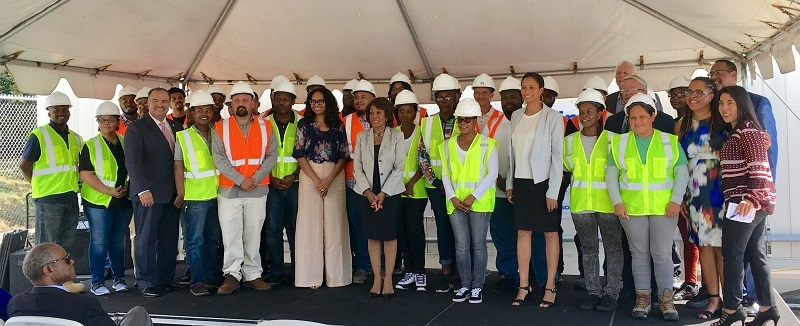none: (22, 242, 77, 288), (717, 84, 750, 122), (686, 76, 716, 109), (708, 59, 739, 87), (306, 86, 332, 117), (365, 97, 391, 128), (519, 71, 542, 102), (622, 74, 648, 100), (166, 86, 187, 112), (149, 89, 169, 116), (615, 62, 636, 86)
white: (573, 87, 605, 129), (623, 95, 658, 130), (432, 74, 457, 112), (497, 76, 523, 112), (455, 98, 481, 133), (44, 92, 72, 124), (94, 98, 119, 133), (394, 89, 418, 124), (189, 90, 213, 124), (272, 79, 295, 114), (231, 81, 253, 116), (352, 78, 374, 111), (473, 73, 495, 105), (667, 78, 689, 109), (583, 76, 609, 100), (117, 87, 138, 114), (541, 75, 560, 104), (207, 86, 224, 112), (390, 73, 411, 94), (341, 80, 356, 109), (135, 86, 151, 113), (306, 74, 326, 92)
